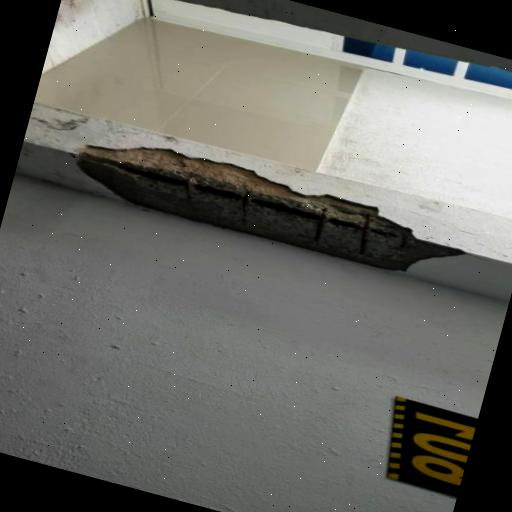spalling: (85, 153, 449, 267)
